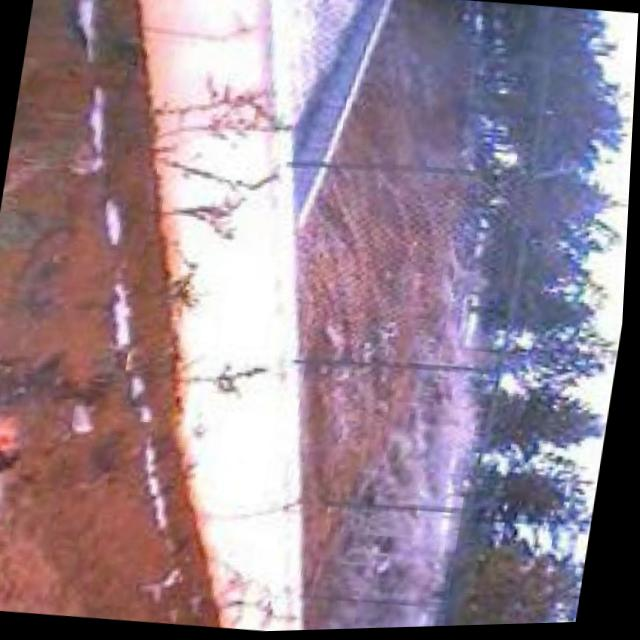Fire: (0, 410, 33, 520)
